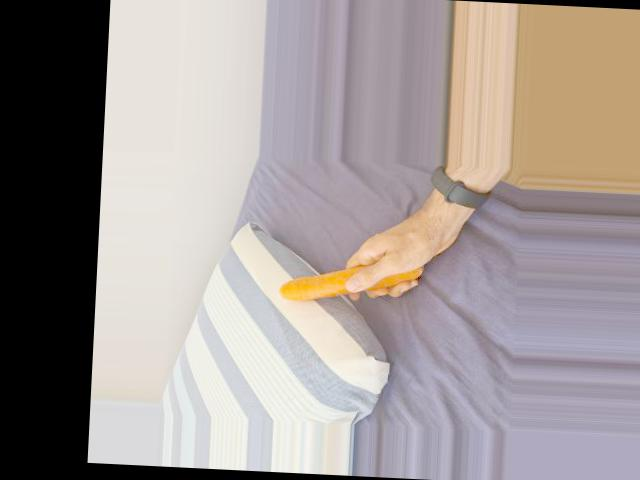carrot: (278, 252, 426, 308)
